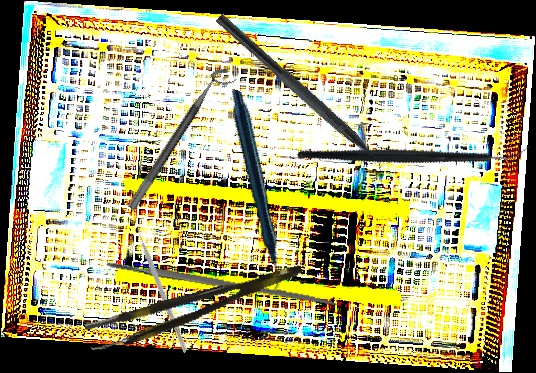Chopper: (295, 68, 533, 236), (204, 13, 399, 187), (92, 217, 236, 354)
Fixation Ring: (126, 63, 239, 219)
Handpiece: (163, 88, 346, 293)
Scalpel Handle: (103, 257, 339, 309)
Tissue Forceps: (83, 261, 309, 355)
